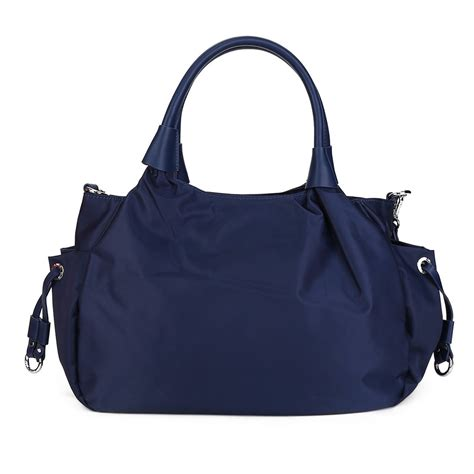nylon: (50, 167, 444, 418)
